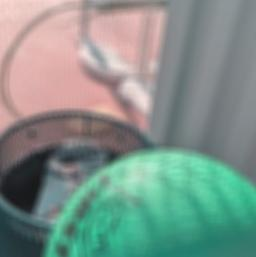algae: (46, 148, 256, 257)
